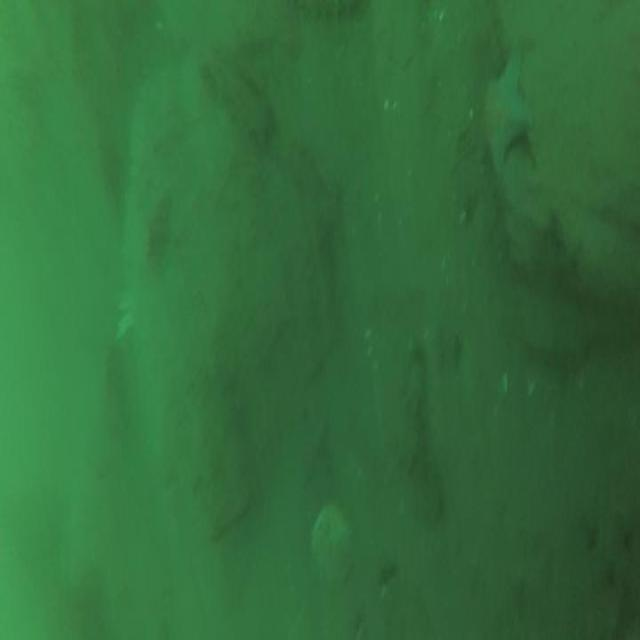holothurian: (401, 342, 445, 530)
scallop: (308, 501, 356, 596)
starfish: (483, 52, 536, 179)
